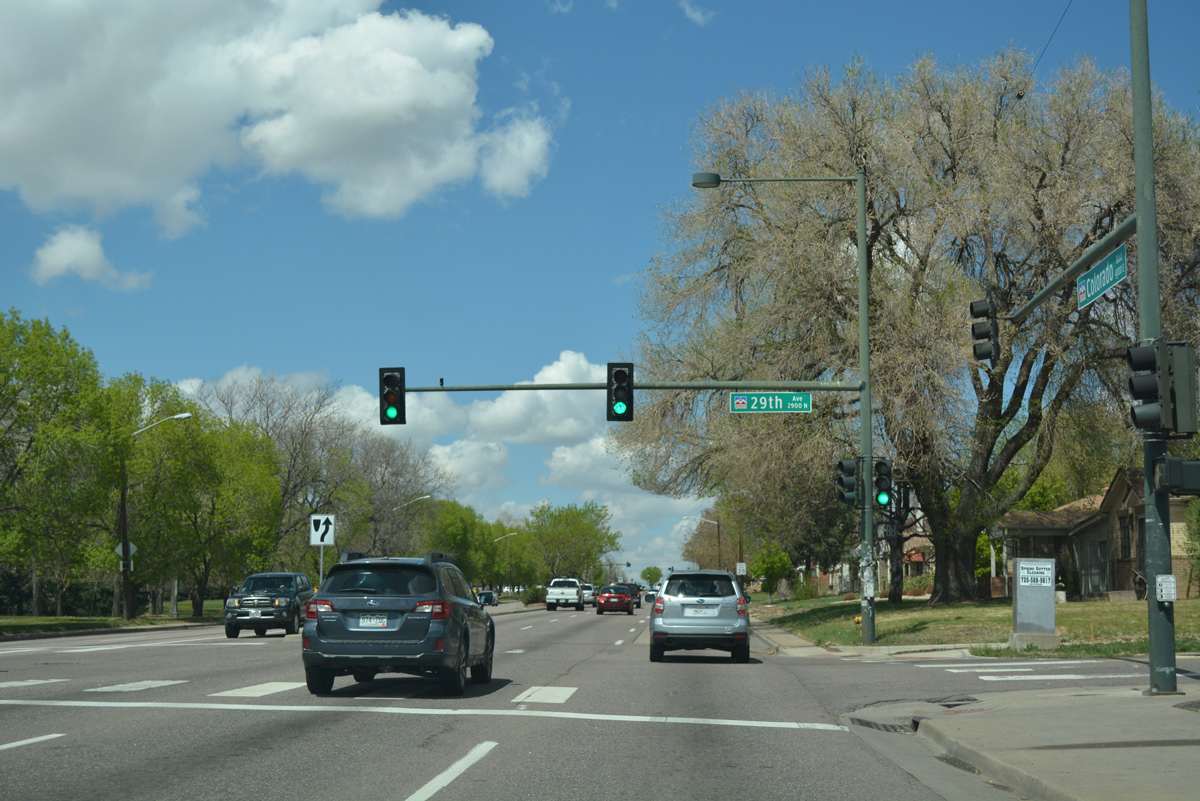traffic_light: (377, 366, 408, 426), (605, 361, 635, 423)
